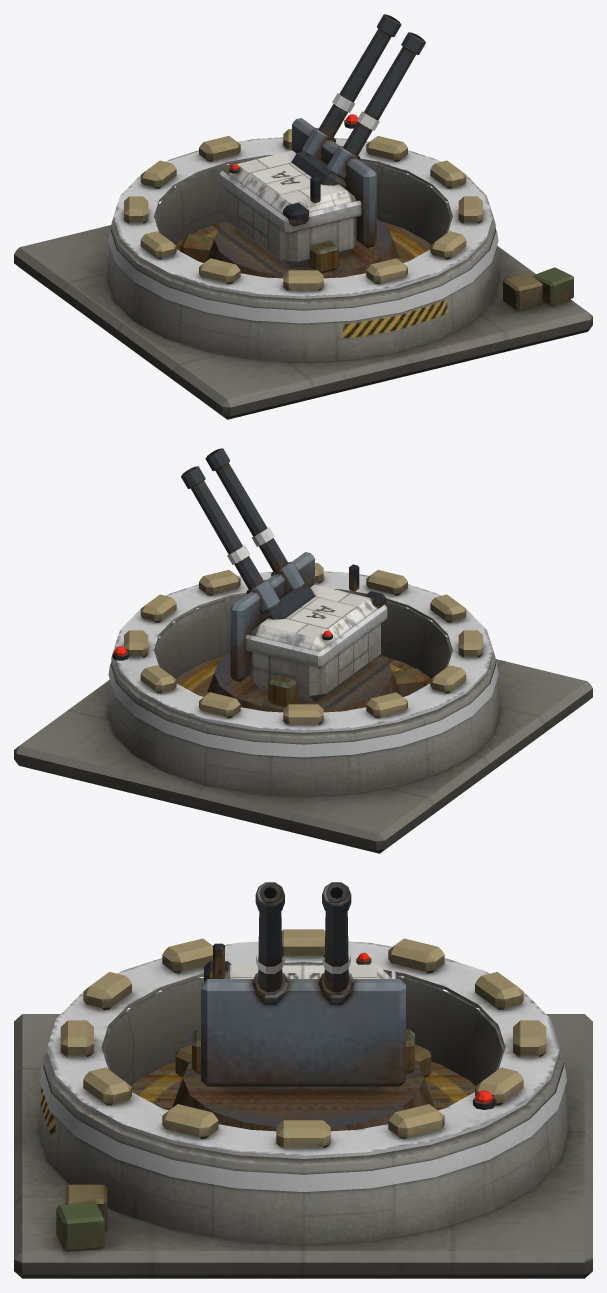
Rendered from agun.allies.glb.
3 renders of one model, top to bottom at view 1: azimuth 30°, elevation 25°; view 2: azimuth 150°, elevation 25°; view 3: azimuth 270°, elevation 25°, orthographic. The views are drawn at different scales.
Parts seen in each view (by area): view 1: root_mesh, turret_mesh, b1_mesh, b0_mesh, elev_mesh; view 2: root_mesh, turret_mesh, b0_mesh, b1_mesh, elev_mesh; view 3: root_mesh, turret_mesh, b0_mesh, b1_mesh.
Part boxes in pixels (bbox=[...]): root_mesh: bbox=[14, 114, 592, 419]; turret_mesh: bbox=[206, 118, 399, 278]; b1_mesh: bbox=[327, 32, 425, 179]; b0_mesh: bbox=[302, 14, 401, 159]; elev_mesh: bbox=[291, 151, 346, 204]; root_mesh: bbox=[14, 563, 592, 853]; turret_mesh: bbox=[207, 552, 400, 712]; b0_mesh: bbox=[181, 466, 279, 613]; b1_mesh: bbox=[205, 448, 304, 593]; elev_mesh: bbox=[260, 585, 315, 622]; root_mesh: bbox=[14, 929, 592, 1278]; turret_mesh: bbox=[172, 943, 434, 1131]; b0_mesh: bbox=[318, 882, 354, 1004]; b1_mesh: bbox=[252, 882, 288, 1004].
Bounding box in the file's own units: 0.96 × 0.6223 × 0.96.
Materials: 1 (1 with a texture image).
